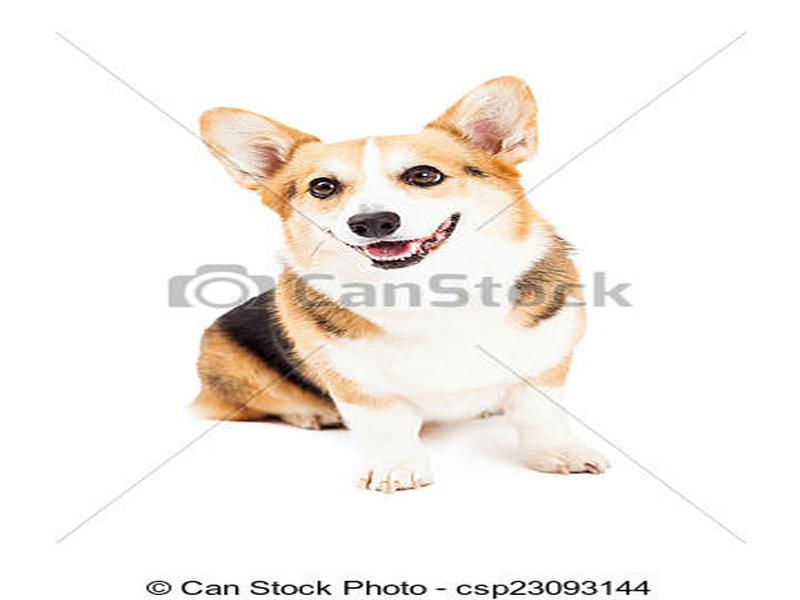corgi: (198, 75, 542, 276)
